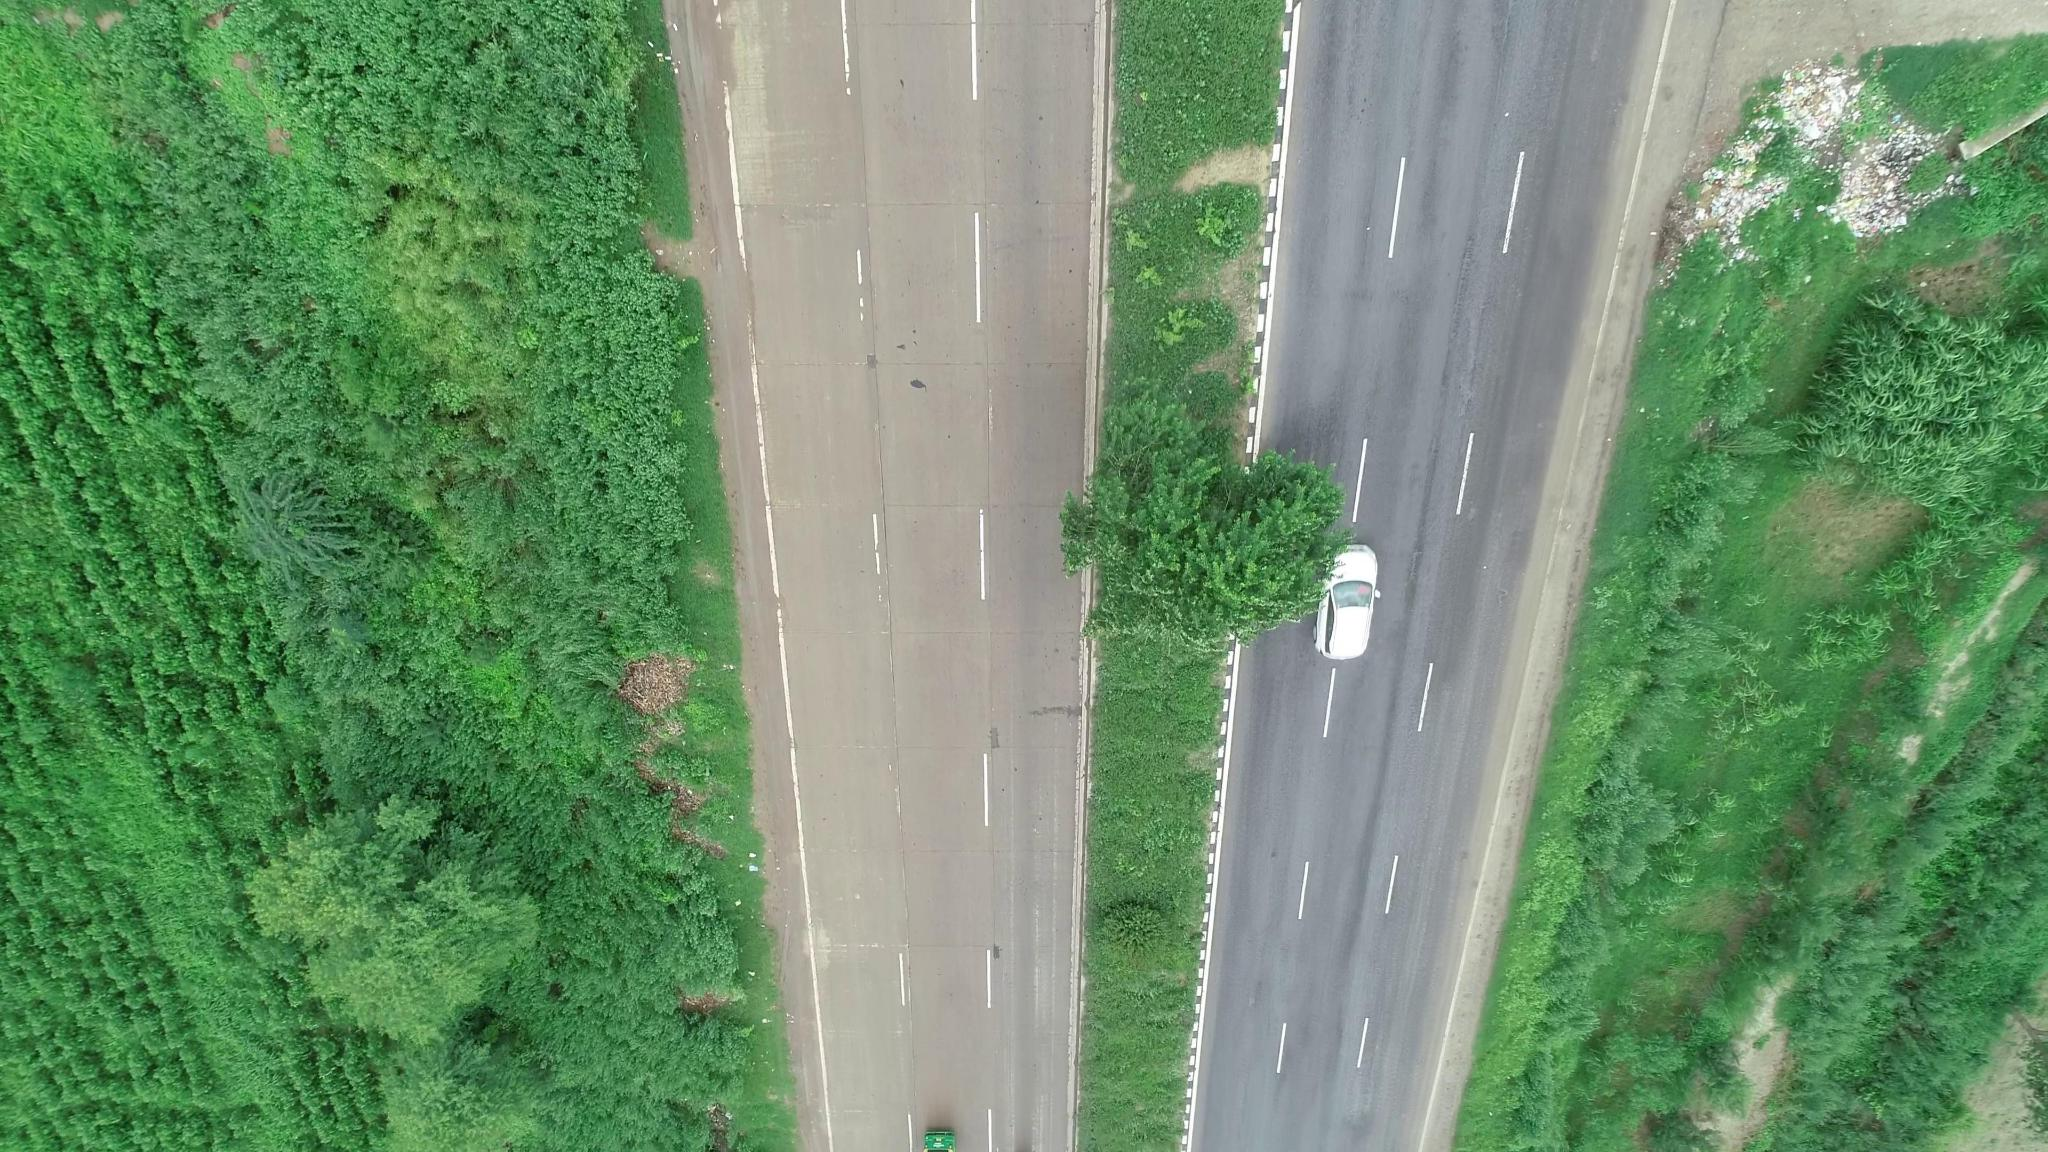Road_side_garbage: (1703, 70, 1931, 241)
